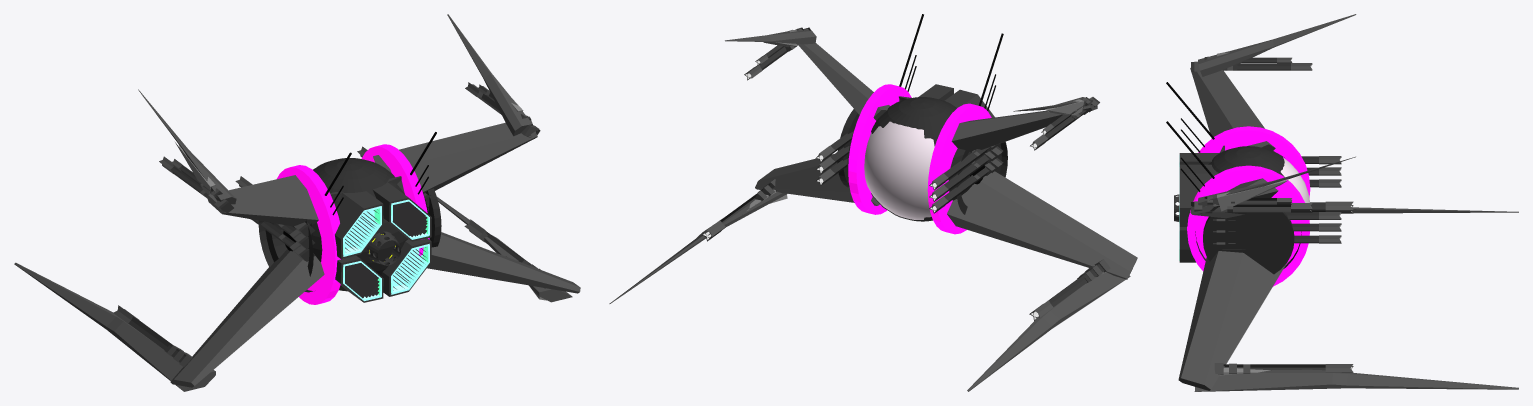
File: Amelka_gotowa_gra.fbx
3 renders of one model, left to right at view 1: azimuth 30°, elevation 25°; view 2: azimuth 150°, elevation 25°; view 3: azimuth 270°, elevation 25°, orthographic. The views are drawn at different scales.
Visible parts, largest first — view 1: Sphere.007; view 2: Sphere.007; view 3: Sphere.007.
Part boxes in pixels (bbox=[...]): Sphere.007: bbox=[14, 14, 580, 391]; Sphere.007: bbox=[609, 14, 1137, 391]; Sphere.007: bbox=[1166, 14, 1518, 391].
Bounding box in the file's own units: 700 × 391 × 568.
